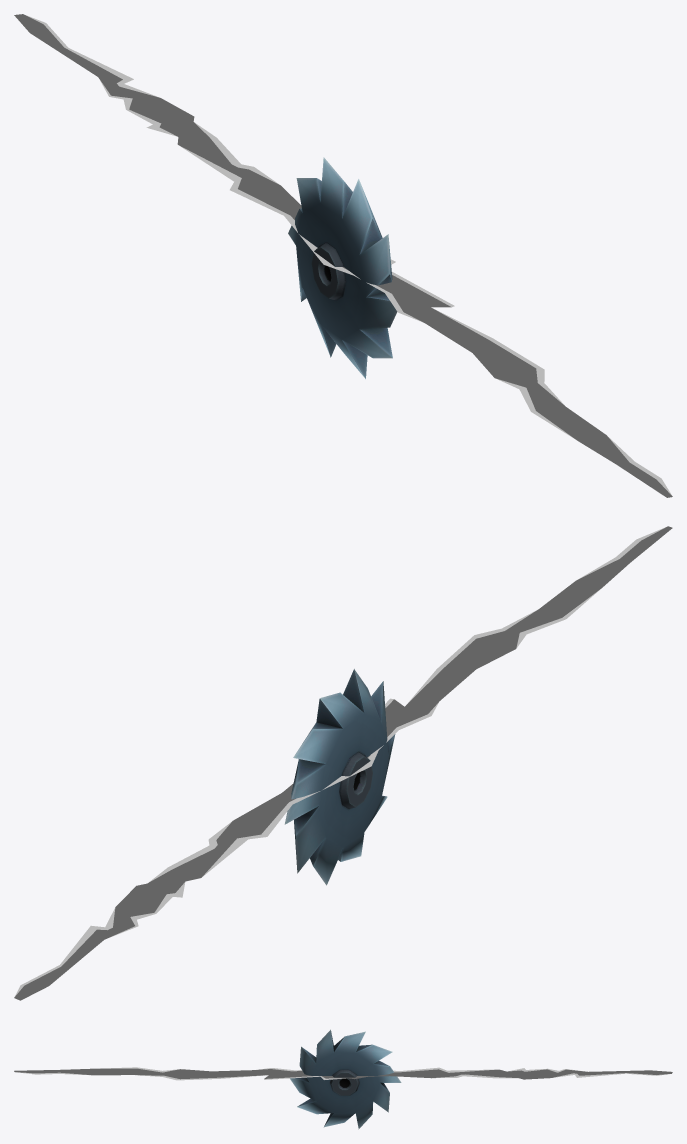
File: xianjing.fbx
3 renders of one model, top to bottom at view 1: azimuth 30°, elevation 25°; view 2: azimuth 150°, elevation 25°; view 3: azimuth 270°, elevation 25°, orthographic. The views are drawn at different scales.
Parts seen in each view (by area): view 1: liefeng, chilun; view 2: liefeng, chilun; view 3: chilun, liefeng.
Part boxes in pixels (left/top/right/bottom): liefeng: left=14, top=14, right=672, bottom=497; chilun: left=288, top=157, right=397, bottom=378; liefeng: left=14, top=526, right=672, bottom=1000; chilun: left=284, top=669, right=395, bottom=885; chilun: left=290, top=1029, right=401, bottom=1129; liefeng: left=14, top=1067, right=672, bottom=1080.
Size of the model in its own units: 0.7684 by 2.52 by 15.01.
Materials: 2 (2 with a texture image).
